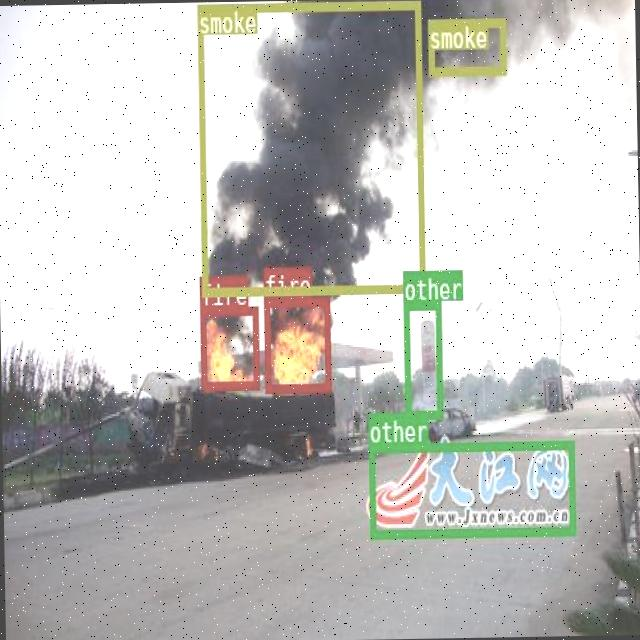fire: (262, 296, 330, 391), (198, 304, 258, 389)
smoke: (196, 0, 423, 294), (426, 16, 504, 74)
